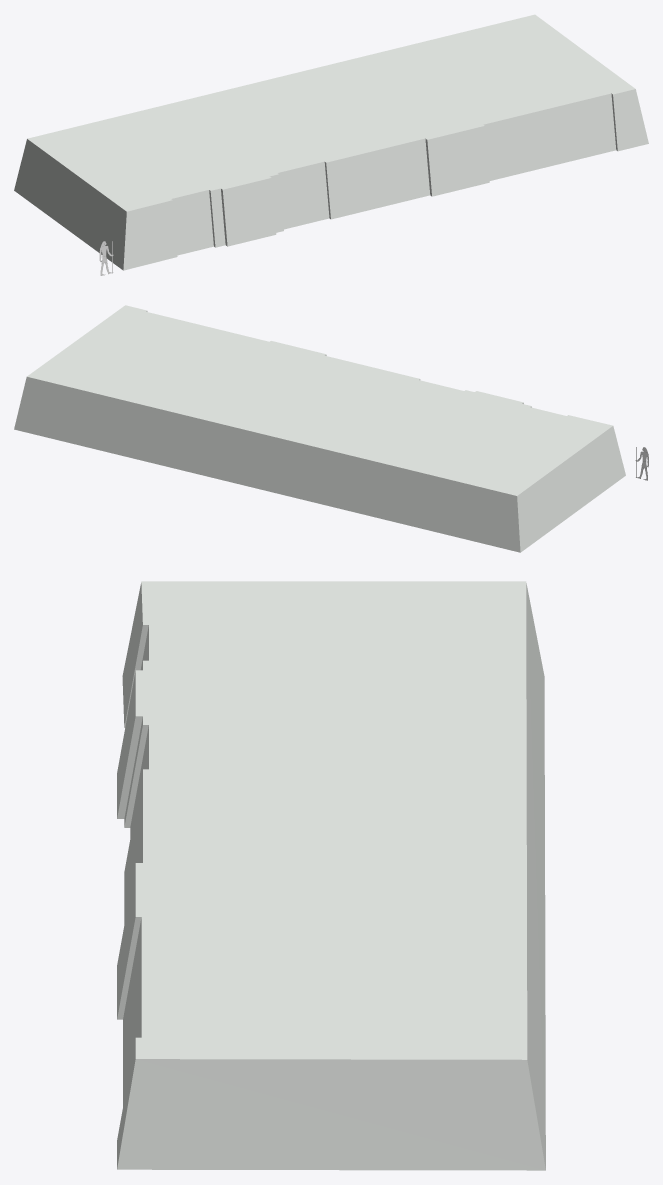
Rendered from TombX.obj.
The picture shows the model from 3 angles, top to bottom: view 1: azimuth 30°, elevation 25°; view 2: azimuth 150°, elevation 25°; view 3: azimuth 270°, elevation 25°; orthographic projection. The views are drawn at different scales.
Parts seen in each view (by area): view 1: Mesh1 Model; view 2: Mesh1 Model; view 3: Mesh1 Model.
Boxes of the visible parts, x1=… form: Mesh1 Model: x1=14, y1=14, x2=648, y2=270; Mesh1 Model: x1=14, y1=305, x2=625, y2=552; Mesh1 Model: x1=117, y1=581, x2=545, y2=1170.
Size of the model in its own units: 26.93 by 2.5 by 9.45.
